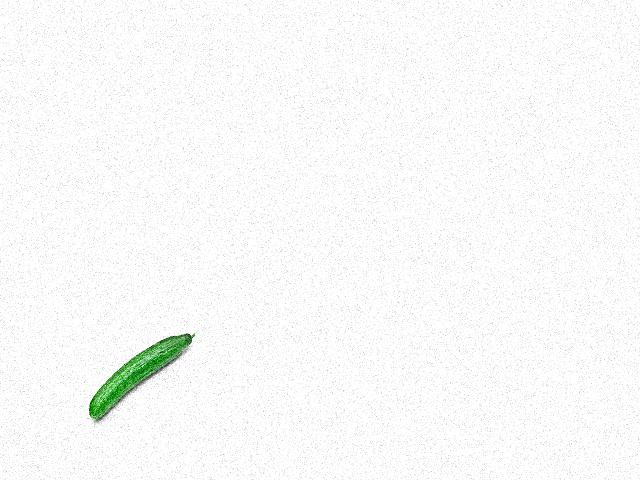cucumber: (89, 333, 196, 420)
